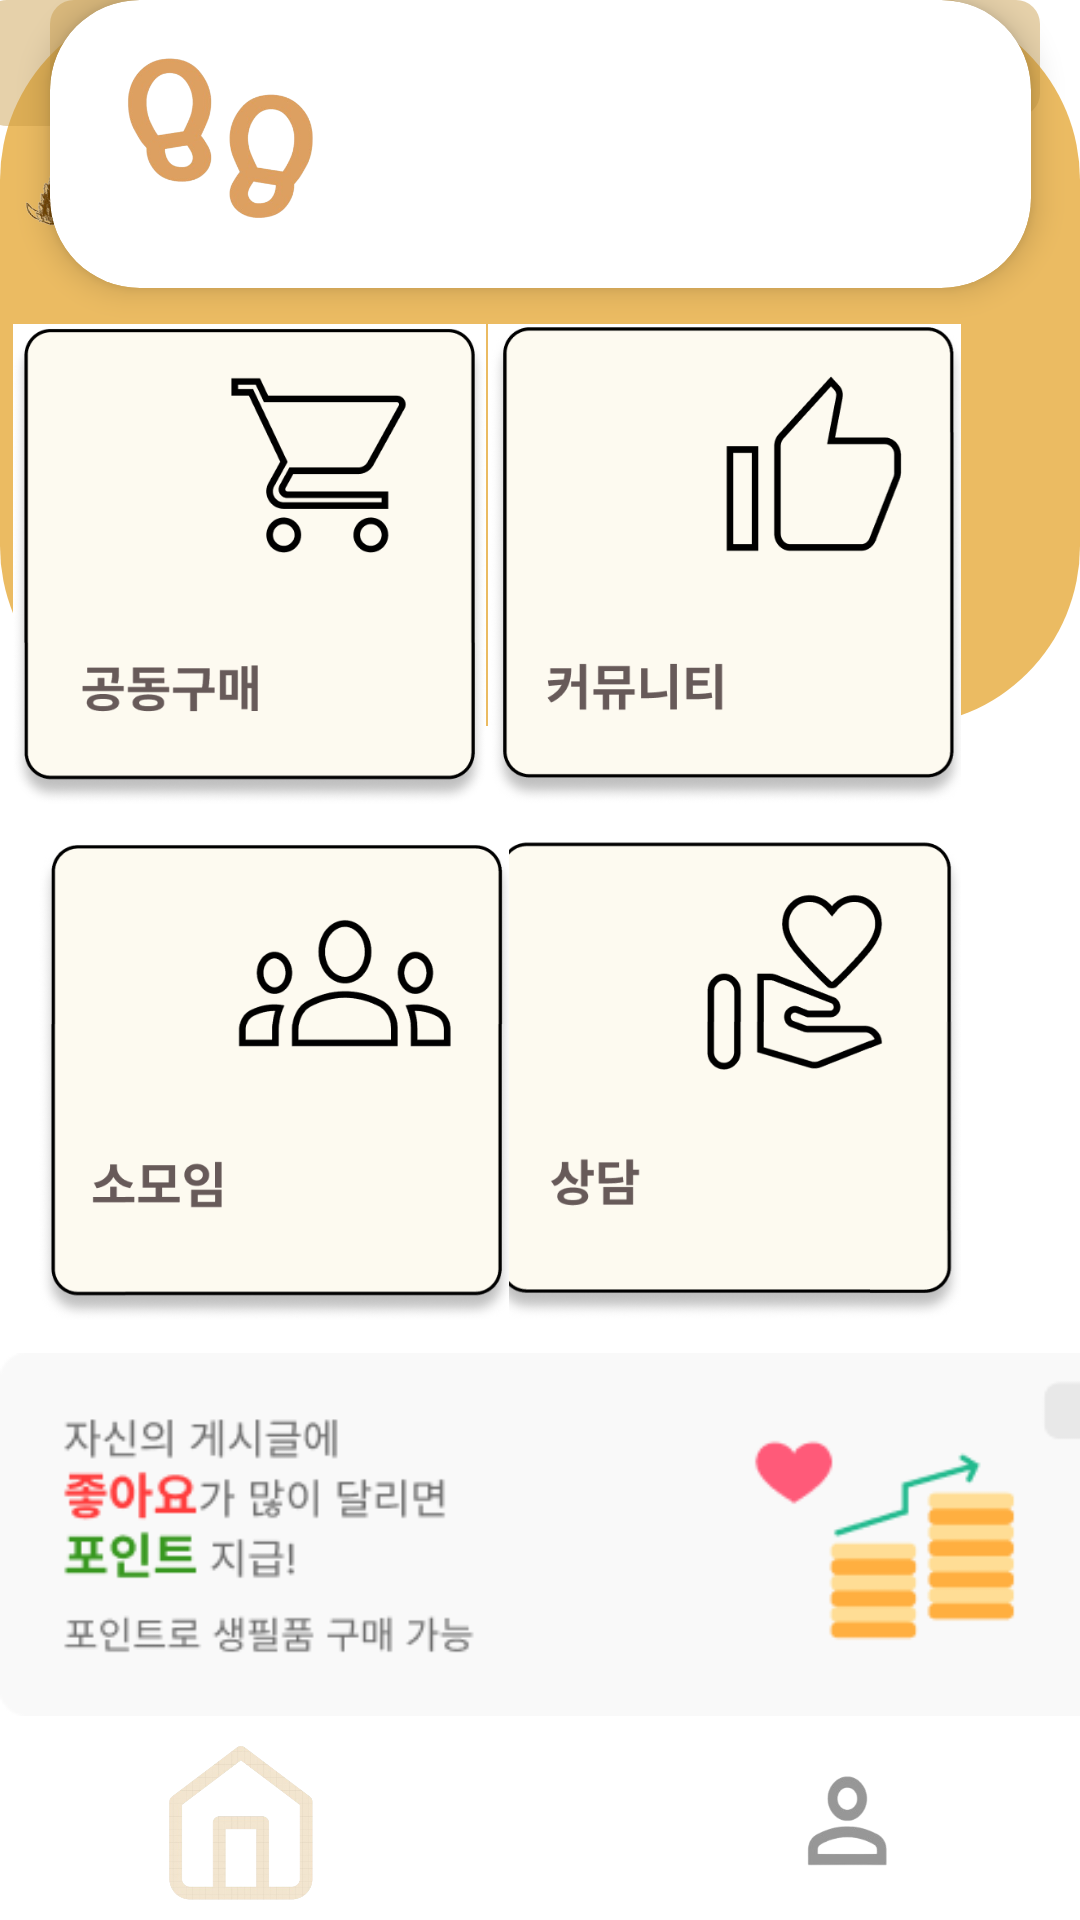

Where to tap for icons on this 1080x1920 app screen, as (x=x, y=y):
home press: (x=241, y=1823)
mypage: (x=847, y=1820)
